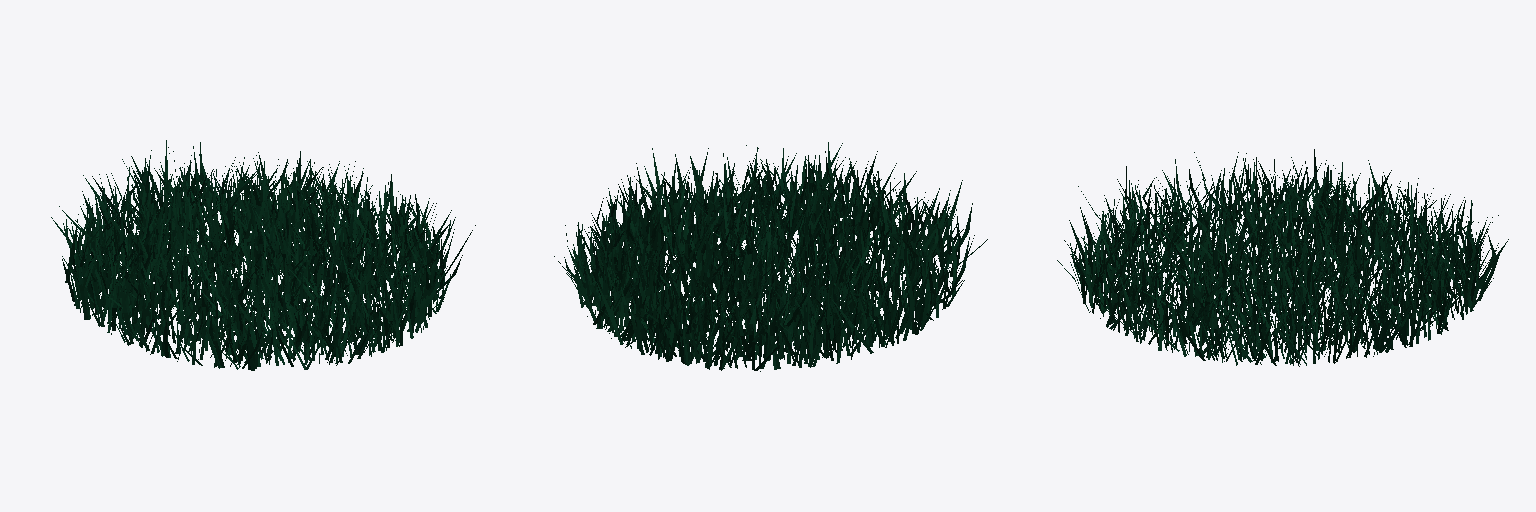
The model's file is Grass.obj.
The picture shows the model from 3 angles: view 1: azimuth 30°, elevation 25°; view 2: azimuth 150°, elevation 25°; view 3: azimuth 270°, elevation 25°; orthographic projection.
Visible parts, largest first — view 1: Grass_02; view 2: Grass_02; view 3: Grass_02.
Boxes of the visible parts, <box> form: Grass_02: <box>51,140,475,370</box>; Grass_02: <box>554,142,987,371</box>; Grass_02: <box>1057,149,1508,366</box>.
Size of the model in its own units: 12.8 by 2.34 by 14.75.